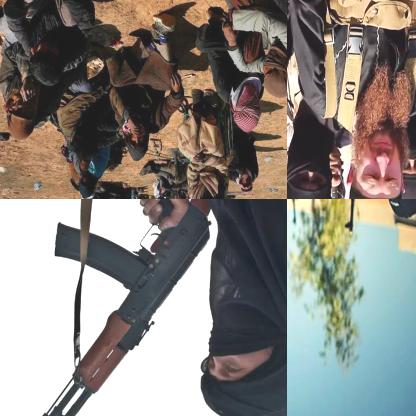rifle: (1, 199, 220, 415), (342, 199, 375, 240), (287, 199, 303, 225)
